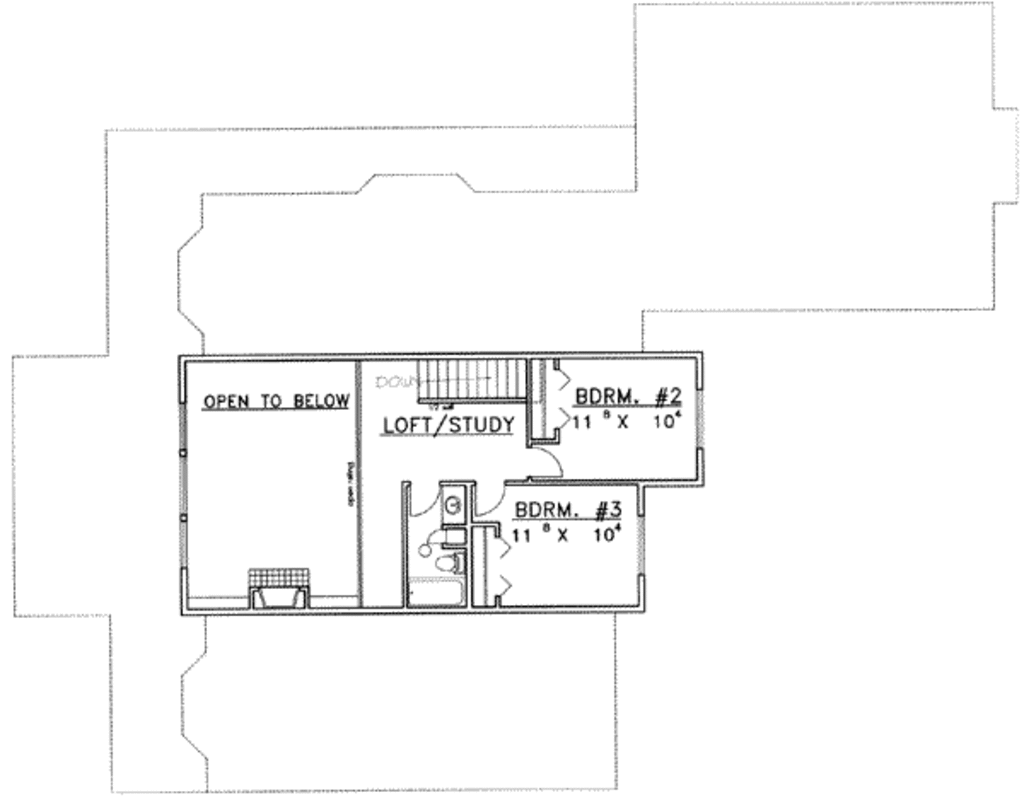door: (403, 479, 440, 518), (467, 481, 506, 516), (531, 444, 567, 476)
large_sink: (433, 549, 468, 576)
small_sink: (443, 481, 469, 520)
tub: (406, 576, 469, 606)
window: (412, 359, 529, 409), (635, 512, 646, 571), (696, 391, 706, 451)
